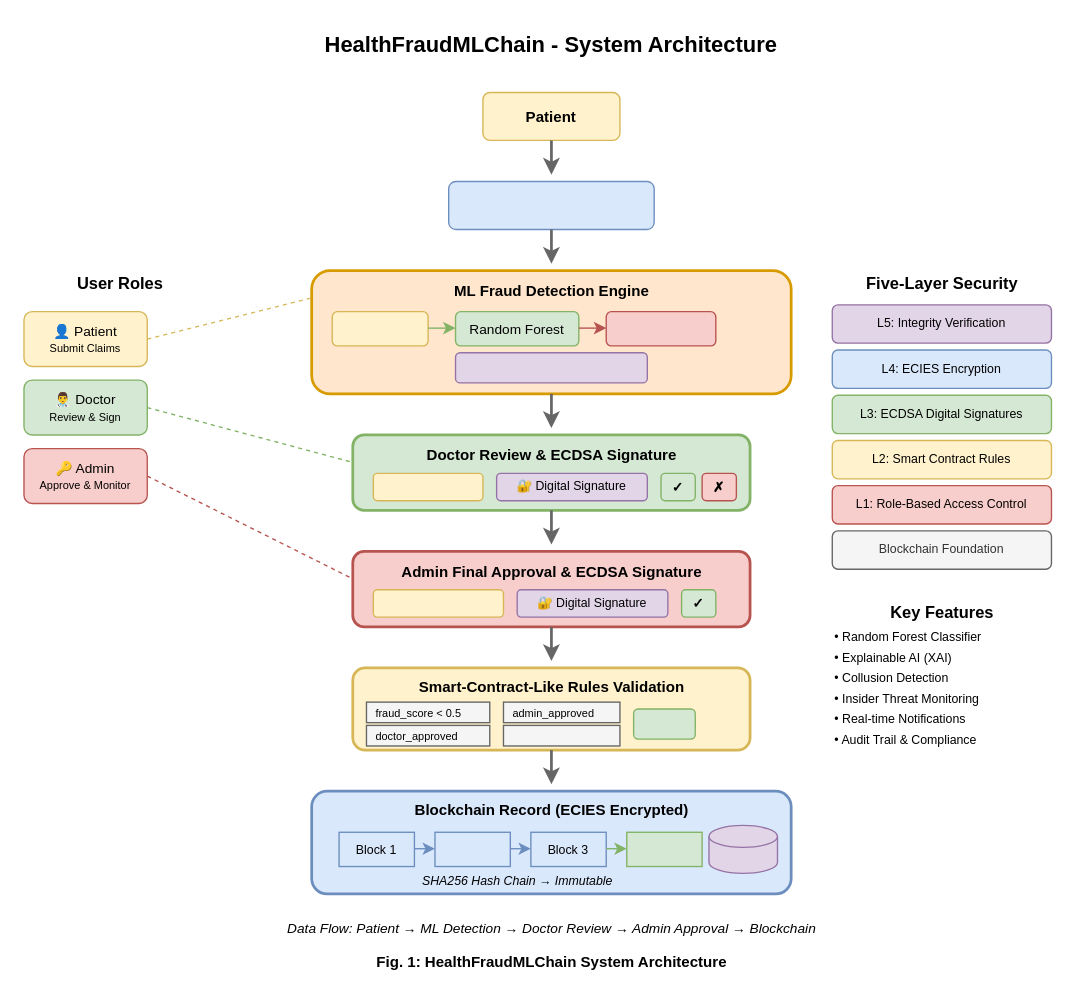
The diagram is 1075 pixels wide and 999 high, and some of its shapes have lost their labels. Each missing label, with the centre of its shape:
Block 2: pixel 472 849
Block N: pixel 663 849
Claim Submission: pixel 550 204
Clinical Review: pixel 427 486
Compliance Check: pixel 437 602
Fraud Score: pixel 660 328
MongoDB: pixel 742 848
signatures_valid: pixel 561 735
TF-IDF: pixel 379 328
XAI Explainer: pixel 550 367
✓ Pass: pixel 663 723
